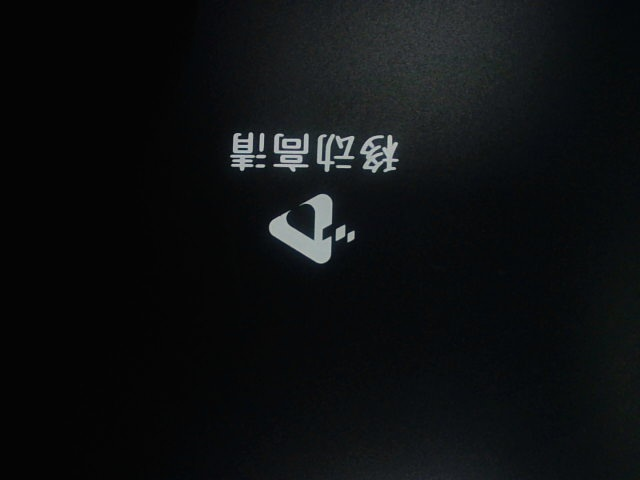AO_MobileHD: (221, 113, 426, 278)
